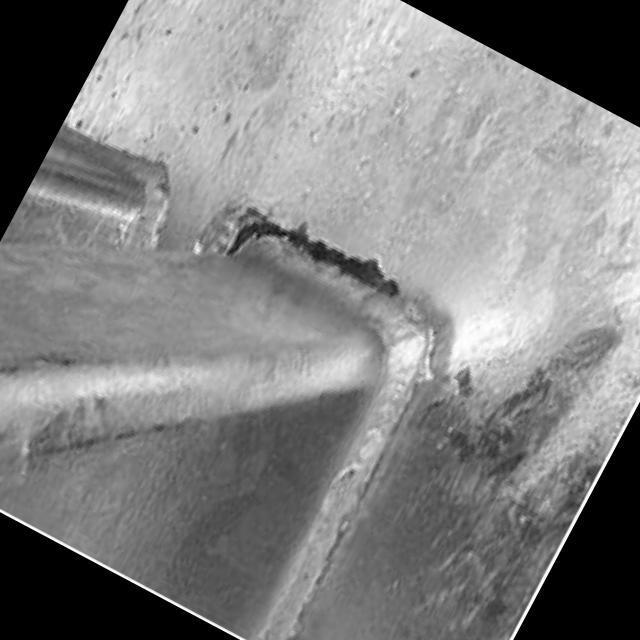defect: (221, 200, 405, 303)
